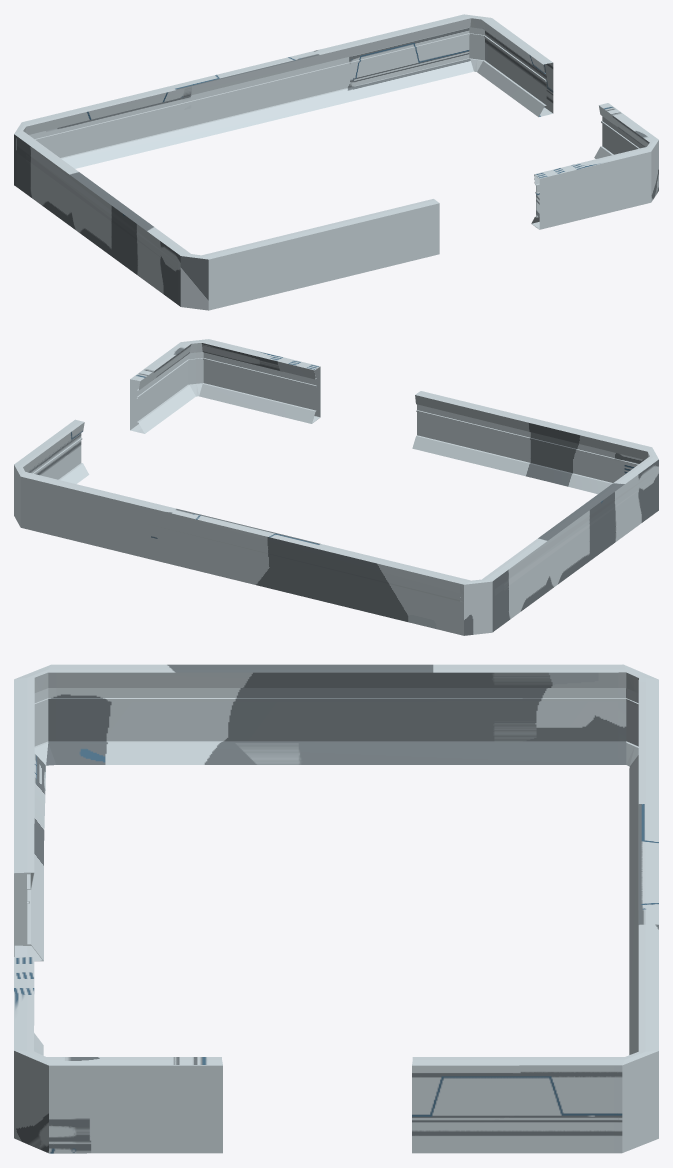
The model's file is Labor_03.FBX.
The picture shows the model from 3 angles, top to bottom: view 1: azimuth 30°, elevation 25°; view 2: azimuth 150°, elevation 25°; view 3: azimuth 270°, elevation 25°; orthographic projection. The views are drawn at different scales.
Parts seen in each view (by area): view 1: Labor_009; view 2: Labor_009; view 3: Labor_009.
Boxes of the visible parts, x1,y1,x2,y2 form: Labor_009: (14,14,658,310); Labor_009: (14,339,658,635); Labor_009: (14,664,658,1153).
Bounding box in the file's own units: 29.13 × 3 × 19.79.
